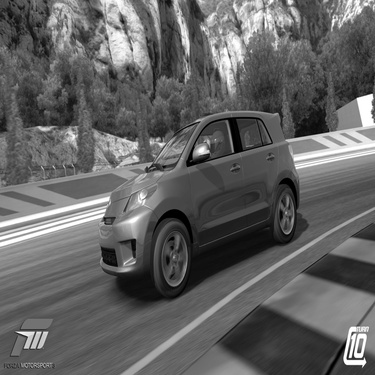car: (88, 102, 302, 304)
